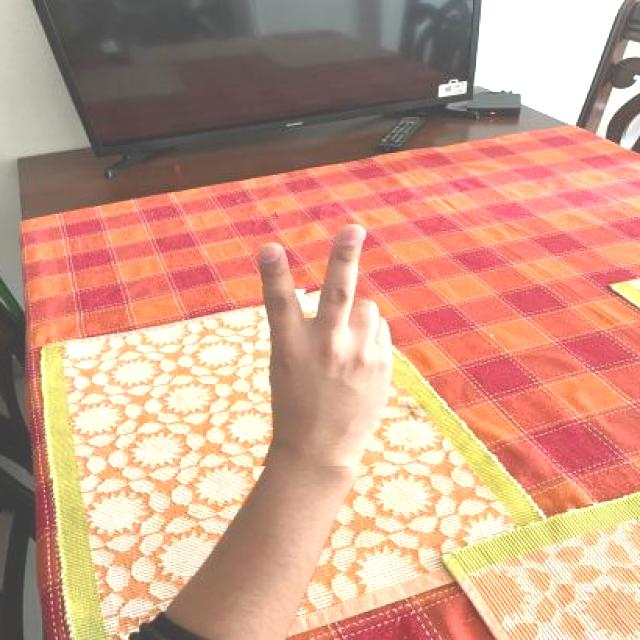V: (253, 216, 407, 466)
